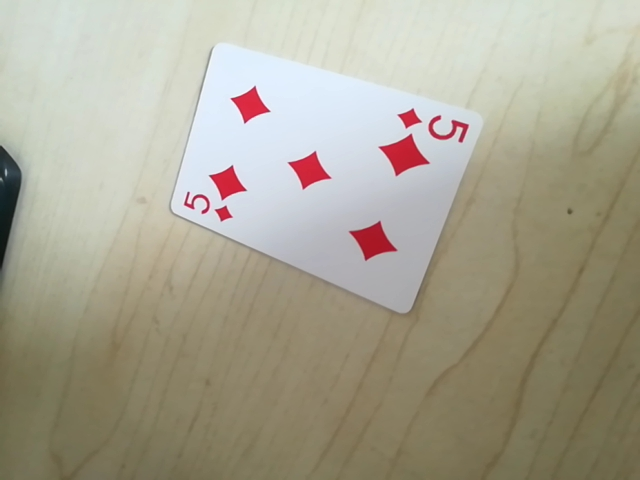fk 5: (393, 103, 474, 144), (177, 188, 237, 227)
